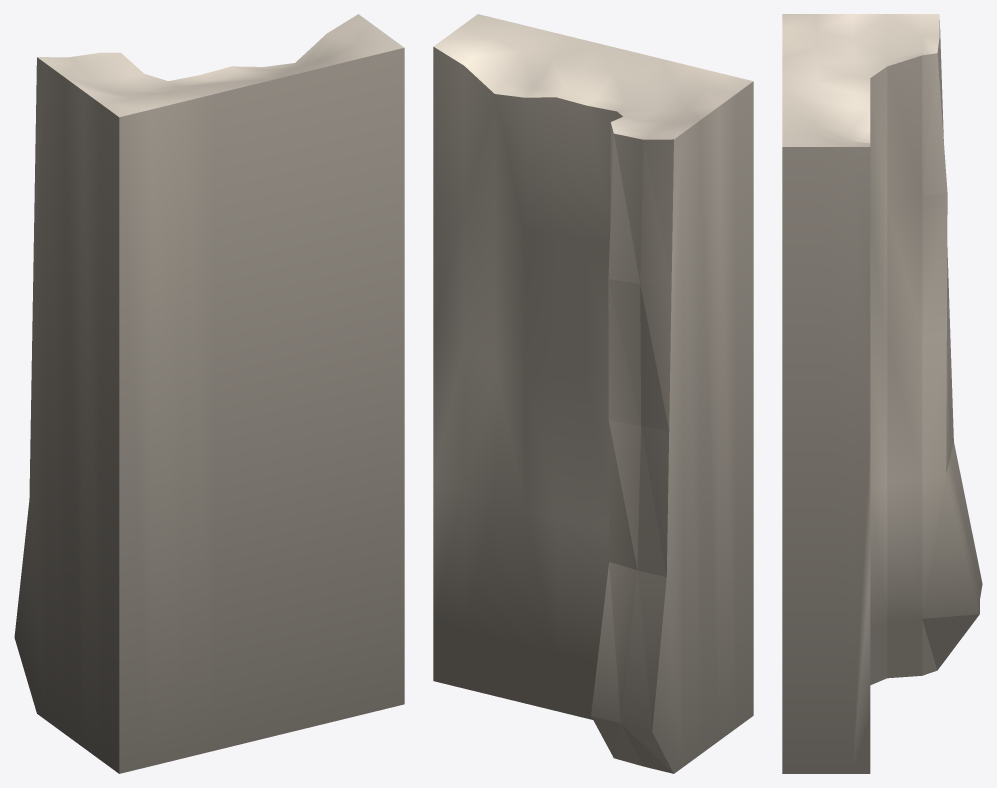
The model's file is SM_VKI_Rock_Cave_FFOO_WallEN.fbx.
The picture shows the model from 3 angles, left to right: view 1: azimuth 30°, elevation 25°; view 2: azimuth 150°, elevation 25°; view 3: azimuth 270°, elevation 25°; orthographic projection. The views are drawn at different scales.
Visible parts, largest first — view 1: SM_VKI_Rock_Cave_FFOO_WallEN.001; view 2: SM_VKI_Rock_Cave_FFOO_WallEN.001; view 3: SM_VKI_Rock_Cave_FFOO_WallEN.001.
Boxes of the visible parts, x1,y1,x2,y2 form: SM_VKI_Rock_Cave_FFOO_WallEN.001: [14, 14, 404, 773]; SM_VKI_Rock_Cave_FFOO_WallEN.001: [433, 14, 753, 773]; SM_VKI_Rock_Cave_FFOO_WallEN.001: [782, 14, 982, 773].
Bounding box in the file's own units: 1.5 × 3.3 × 0.9549.
